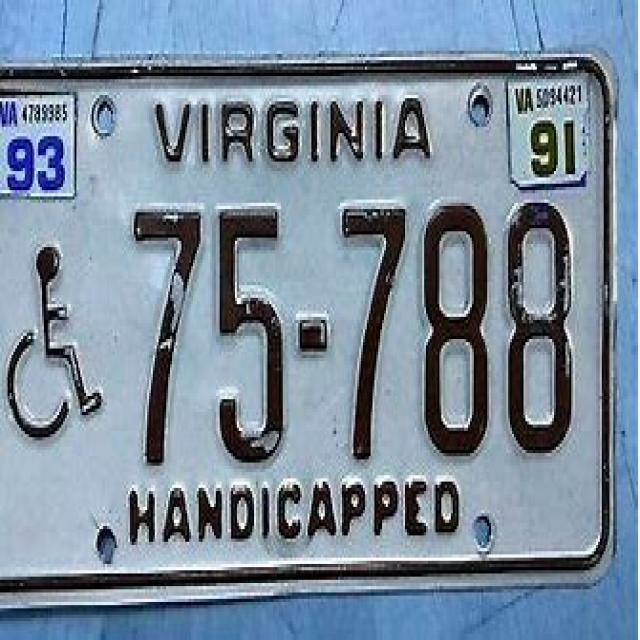ISA: (7, 240, 103, 442)
